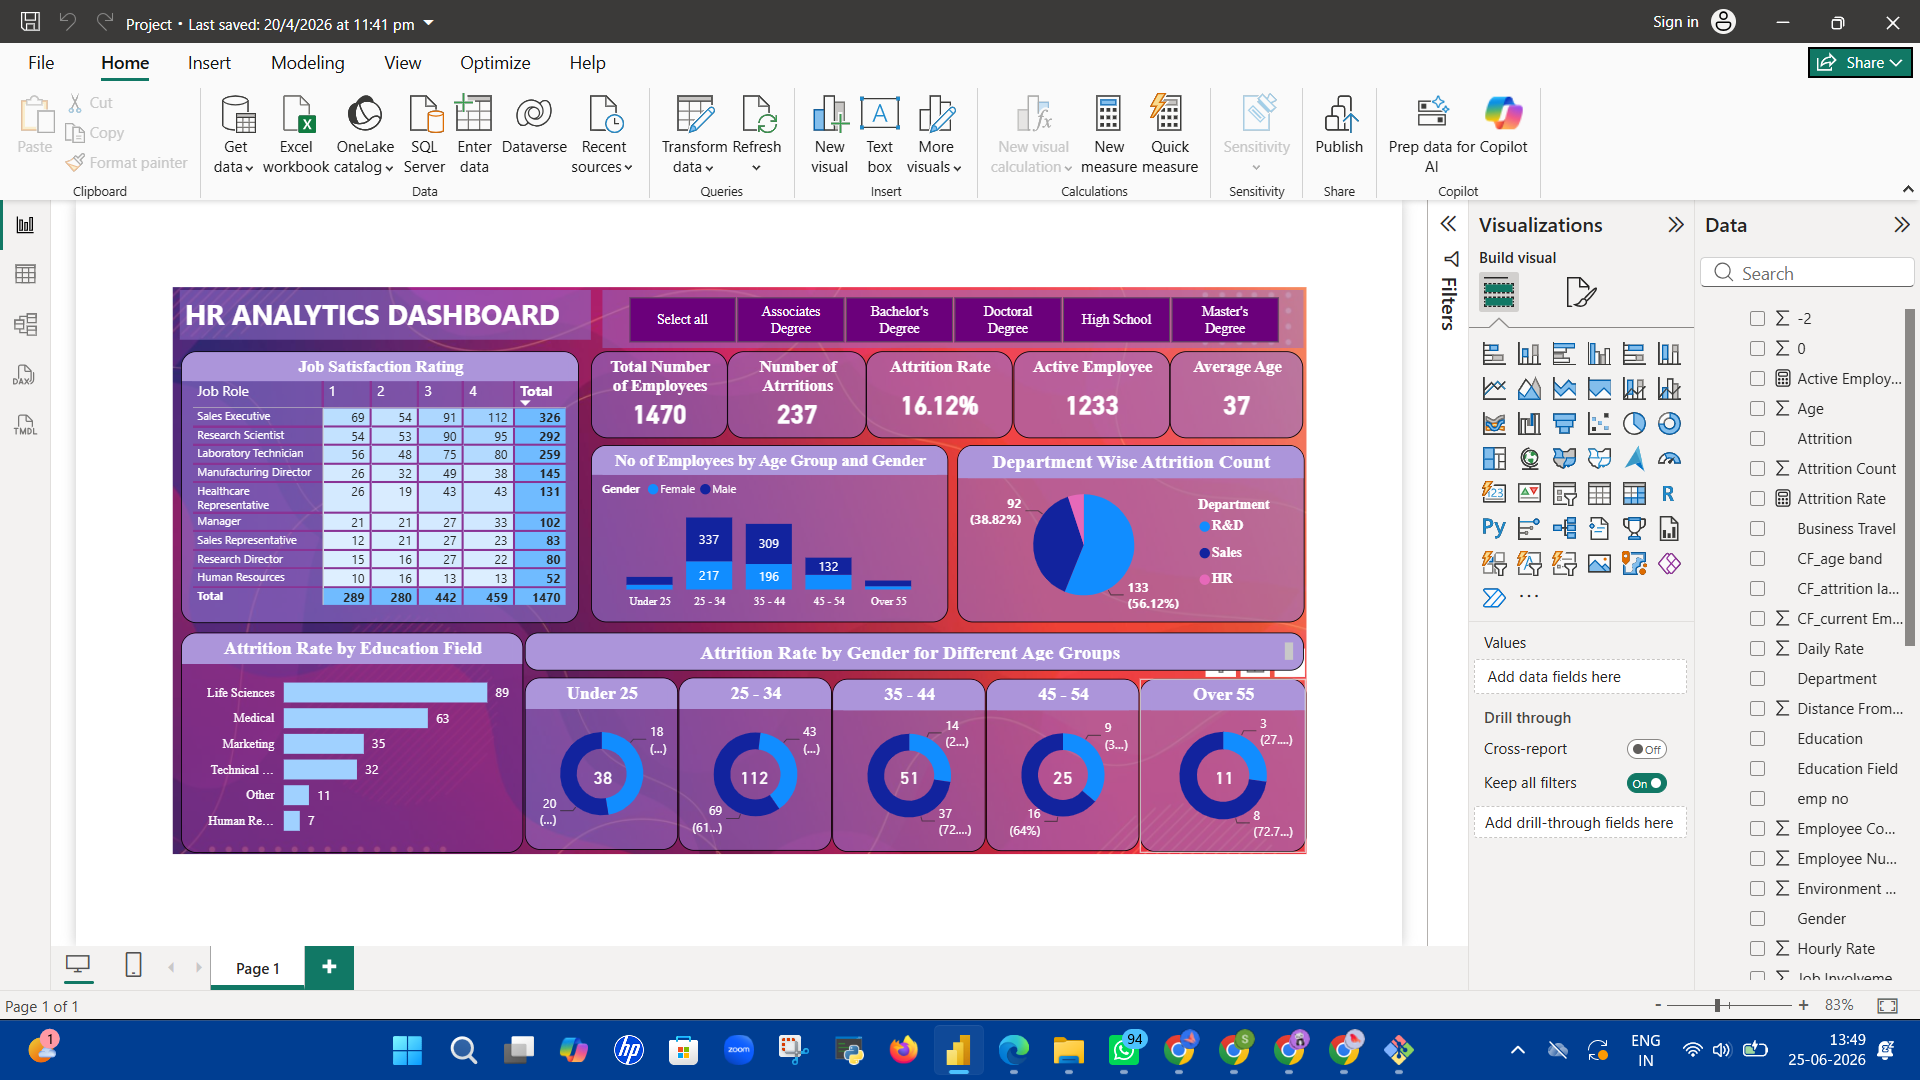

The dashboard page shown, as its layout file describes it:
{"tool":"powerbi","page":{"name":"Page 1","canvas":[1280,720],"ordinal":0},"visuals":[{"type":"card","title":"Total Number of Employees","fields":{"Values":["Sum(HR data.Employee Count)"]},"box":[496.7,145.5,131.7,83.7],"z":0},{"type":"card","title":"Number of Atrritions","fields":{"Values":["Sum(HR data.Attrition Count)"]},"box":[628.5,145.5,134.5,83.7],"z":1000},{"type":"card","title":"Attrition Rate","fields":{"Values":["HR data.Attrition Rate"]},"box":[763,145.5,141.3,83.7],"z":2000},{"type":"card","title":"Active Employee","fields":{"Values":["HR data.Active Employees"]},"box":[904.3,145.5,150.9,83.7],"z":3000},{"type":"card","title":"Average Age","fields":{"Values":["Avg(HR data.Age)"]},"box":[1055.2,145.5,129,83.7],"z":4000},{"type":"pieChart","title":"Department Wise Attrition Count","fields":{"Category":["HR data.Department"],"Y":["Sum(HR data.Attrition Count)"]},"box":[850.8,236,334.8,171.5],"z":5000},{"type":"columnChart","title":"No of Employees by Age Group and Gender","fields":{"Category":["HR data.CF_age band"],"Y":["Sum(HR data.Employee Count)"],"Series":["HR data.Gender"]},"box":[496.7,236,344.4,171.5],"z":6000},{"type":"pivotTable","title":"Job Satisfaction Rating","fields":{"Rows":["HR data.Job Role"],"Columns":["HR data.Job Satisfaction"],"Values":["Sum(HR data.Employee Count)"]},"box":[101.5,145.5,384.2,262.1],"z":7000},{"type":"barChart","title":"Attrition Rate by Education Field","fields":{"Category":["HR data.Education Field"],"Y":["Sum(HR data.Attrition Count)"]},"box":[101.5,417.2,330.7,212.7],"z":8000},{"type":"donutChart","title":"Over 55","fields":{"Category":["HR data.Gender"],"Y":["Sum(HR data.Attrition Count)"],"Series":["HR data.CF_age band"]},"box":[1026.4,462.4,160.5,167.4],"z":9000},{"type":"donutChart","title":"45 - 54","fields":{"Category":["HR data.Gender"],"Y":["Sum(HR data.Attrition Count)"],"Series":["HR data.CF_age band"]},"box":[878.2,462.4,148.2,166],"z":10000},{"type":"donutChart","title":"35 - 44","fields":{"Category":["HR data.Gender"],"Y":["Sum(HR data.Attrition Count)"],"Series":["HR data.CF_age band"]},"box":[730,462.4,148.2,167.4],"z":11000},{"type":"donutChart","title":"25 - 34","fields":{"Category":["HR data.Gender"],"Y":["Sum(HR data.Attrition Count)"],"Series":["HR data.CF_age band"]},"box":[581.8,461.1,148.2,167.4],"z":12000},{"type":"textbox","box":[433.6,417.2,752,37],"z":13000},{"type":"donutChart","title":" Under 25","fields":{"Category":["HR data.Gender"],"Y":["Sum(HR data.Attrition Count)"],"Series":["HR data.CF_age band"]},"box":[433.6,461.1,148.2,166],"z":14000},{"type":"card","fields":{"Values":["Sum(HR data.Attrition Count)"]},"box":[632.6,532.4,45.3,52.1],"z":15000},{"type":"card","fields":{"Values":["Sum(HR data.Attrition Count)"]},"box":[485.8,532.4,45.3,52.1],"z":16000},{"type":"card","fields":{"Values":["Sum(HR data.Attrition Count)"]},"box":[782.2,532.4,45.3,52.1],"z":17000},{"type":"card","fields":{"Values":["Sum(HR data.Attrition Count)"]},"box":[920.8,532.4,64.5,52.1],"z":18000},{"type":"card","fields":{"Values":["Sum(HR data.Attrition Count)"]},"box":[1085.4,532.4,45.3,52.1],"z":19000},{"type":"textbox","box":[100.2,86.4,396.6,48],"z":20000},{"type":"slicer","fields":{"Values":["HR data.Education"]},"box":[507.7,86.4,676.5,56.3],"z":21000}]}

Visuals, with their boxes on the page's 1280x720 design canvas (x1, y1, x2, y2). These are canvas units, not pixel positions in the 1920x1080 screenshot, which may show the page scaled, cropped or inside an application window:
"Total Number of Employees" card: (497, 146, 628, 229)
"Number of Atrritions" card: (628, 146, 763, 229)
"Attrition Rate" card: (763, 146, 904, 229)
"Active Employee" card: (904, 146, 1055, 229)
"Average Age" card: (1055, 146, 1184, 229)
"Department Wise Attrition Count" pieChart: (851, 236, 1186, 408)
"No of Employees by Age Group and Gender" columnChart: (497, 236, 841, 408)
"Job Satisfaction Rating" pivotTable: (102, 146, 486, 408)
"Attrition Rate by Education Field" barChart: (102, 417, 432, 630)
"Over 55" donutChart: (1026, 462, 1187, 630)
"45 - 54" donutChart: (878, 462, 1026, 628)
"35 - 44" donutChart: (730, 462, 878, 630)
"25 - 34" donutChart: (582, 461, 730, 628)
textbox: (434, 417, 1186, 454)
" Under 25" donutChart: (434, 461, 582, 627)
card - Sum(HR data.Attrition Count): (633, 532, 678, 584)
card - Sum(HR data.Attrition Count): (486, 532, 531, 584)
card - Sum(HR data.Attrition Count): (782, 532, 828, 584)
card - Sum(HR data.Attrition Count): (921, 532, 985, 584)
card - Sum(HR data.Attrition Count): (1085, 532, 1131, 584)
textbox: (100, 86, 497, 134)
slicer - HR data.Education: (508, 86, 1184, 143)
